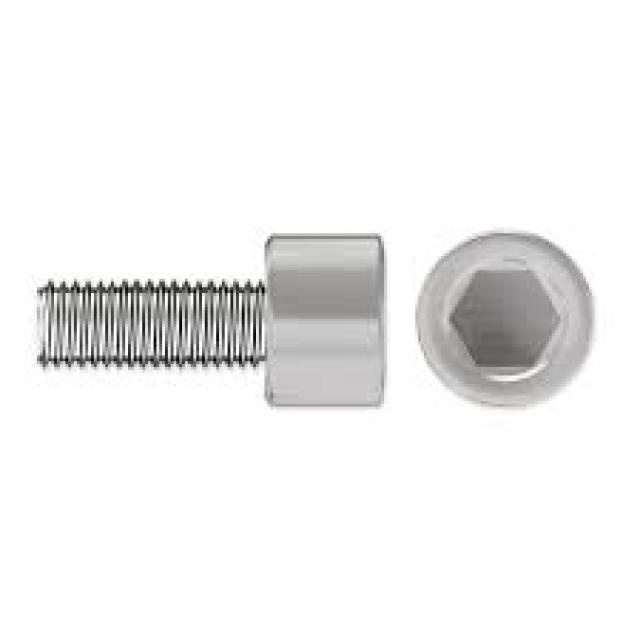allen: (415, 229, 595, 411)
